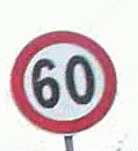limite 60: (7, 29, 118, 132)
